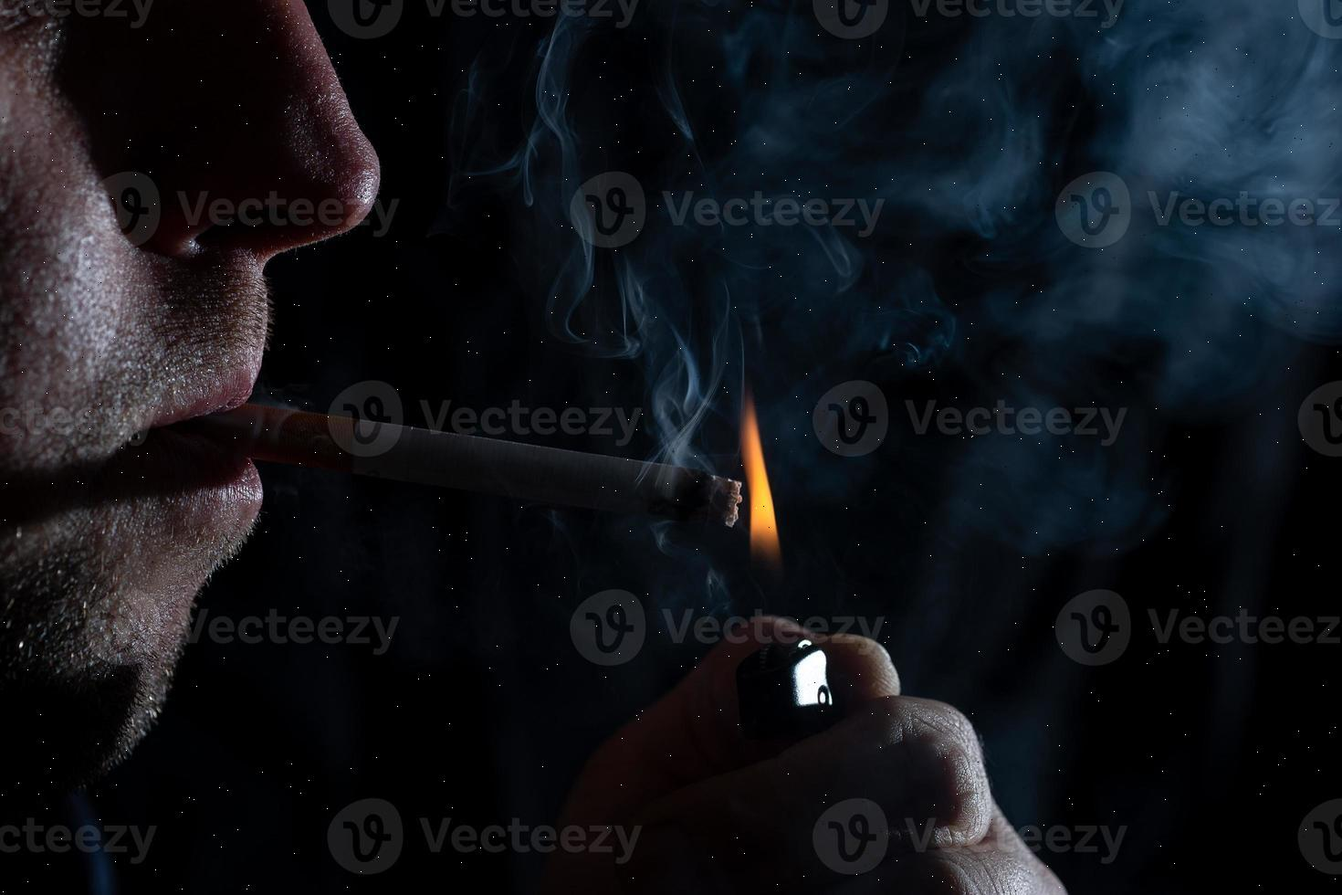cigarette: (190, 405, 740, 525)
